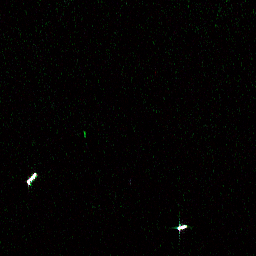ship: (25, 171, 39, 185), (175, 223, 188, 232)
